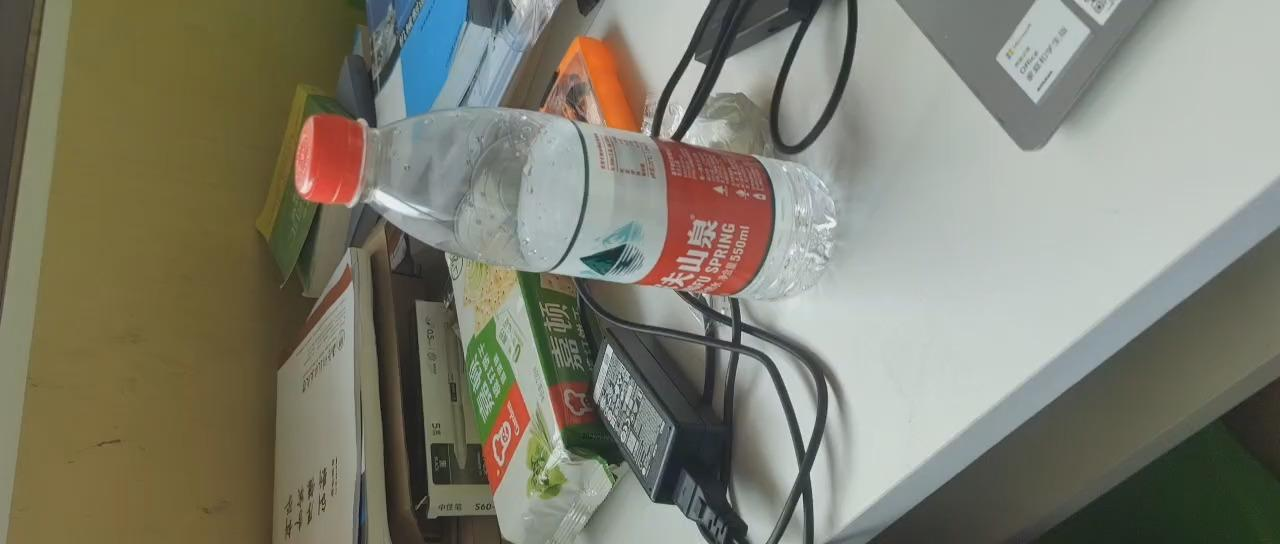BIODEGRADABLE: (291, 109, 840, 322)
